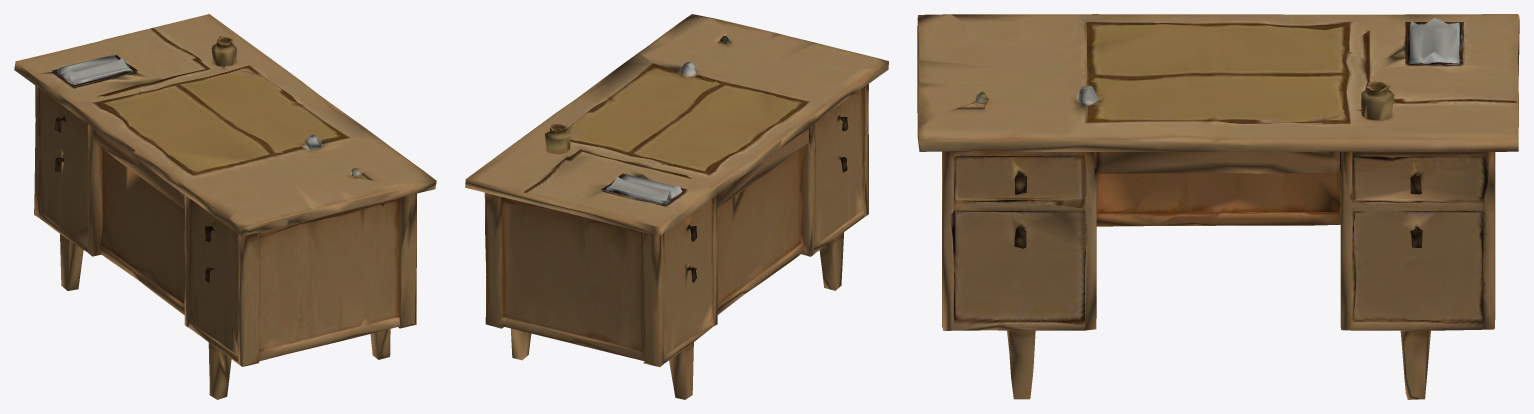
Rendered from au_furn_desk_zen.glb.
3 views of the same model, side by side, from view 1: azimuth 30°, elevation 25°; view 2: azimuth 150°, elevation 25°; view 3: azimuth 270°, elevation 25° (orthographic). The views are drawn at different scales.
Parts seen in each view (by area): view 1: tripo_node_4373dcca-59d8-49e4-8195-ee24ba3285b0; view 2: tripo_node_4373dcca-59d8-49e4-8195-ee24ba3285b0; view 3: tripo_node_4373dcca-59d8-49e4-8195-ee24ba3285b0.
Part boxes in pixels (x1,y1,x2,y2): tripo_node_4373dcca-59d8-49e4-8195-ee24ba3285b0: (14,14,436,399); tripo_node_4373dcca-59d8-49e4-8195-ee24ba3285b0: (465,14,888,399); tripo_node_4373dcca-59d8-49e4-8195-ee24ba3285b0: (917,14,1519,399).
Bounding box in the file's own units: 0.4883 × 0.5338 × 0.9805.
1 material, 1 textured.
